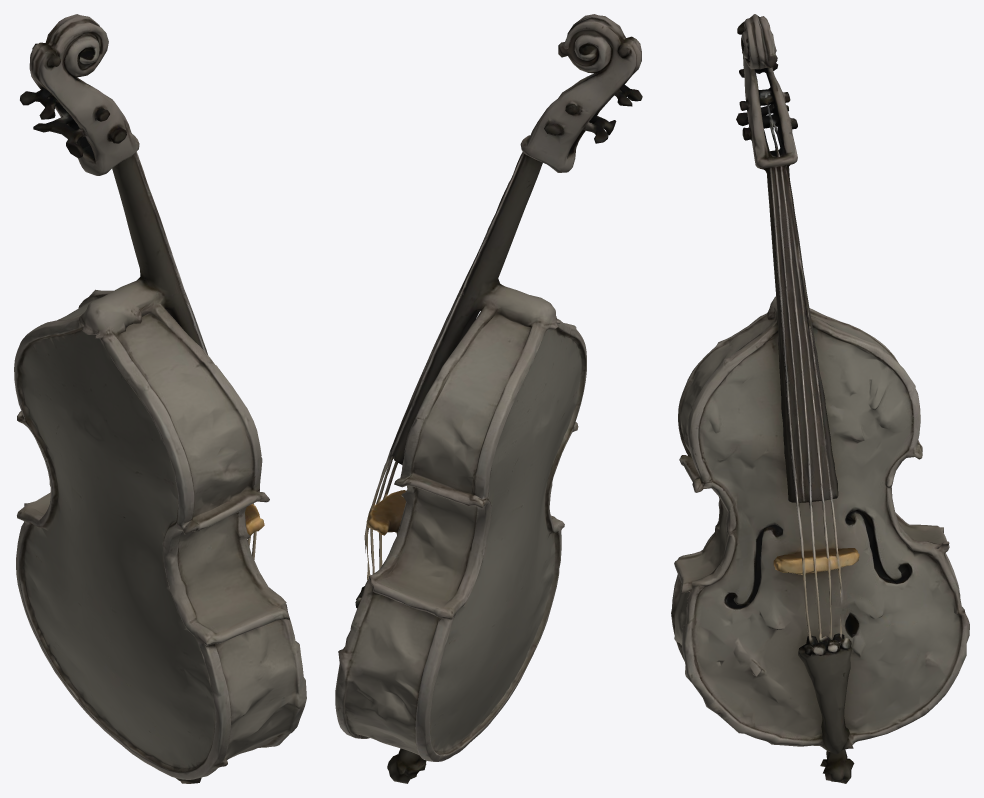
File: bass.glb
3 views of the same model, side by side, from view 1: azimuth 30°, elevation 25°; view 2: azimuth 150°, elevation 25°; view 3: azimuth 270°, elevation 25° (orthographic). The views are drawn at different scales.
Visible parts, largest first — view 1: tripo_node_0ae1c882-37e7-43fe-9232-356cab529a2f; view 2: tripo_node_0ae1c882-37e7-43fe-9232-356cab529a2f; view 3: tripo_node_0ae1c882-37e7-43fe-9232-356cab529a2f.
Boxes of the visible parts, bbox=[...] form: tripo_node_0ae1c882-37e7-43fe-9232-356cab529a2f: bbox=[14, 14, 306, 783]; tripo_node_0ae1c882-37e7-43fe-9232-356cab529a2f: bbox=[335, 14, 642, 783]; tripo_node_0ae1c882-37e7-43fe-9232-356cab529a2f: bbox=[671, 14, 969, 783].
Size of the model in its own units: 0.3299 by 1 by 0.3864.
1 material, 1 textured.
